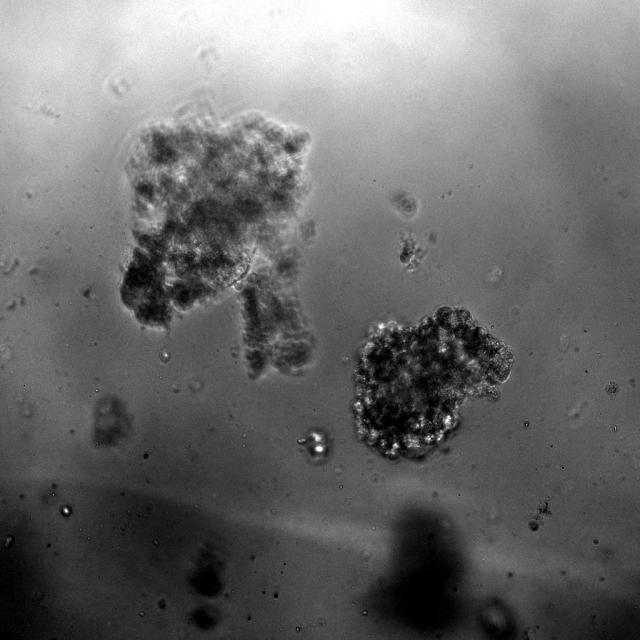organoid: (120, 113, 312, 374), (353, 306, 514, 459), (298, 428, 331, 463), (399, 234, 424, 271), (605, 380, 619, 395), (529, 520, 538, 530)
